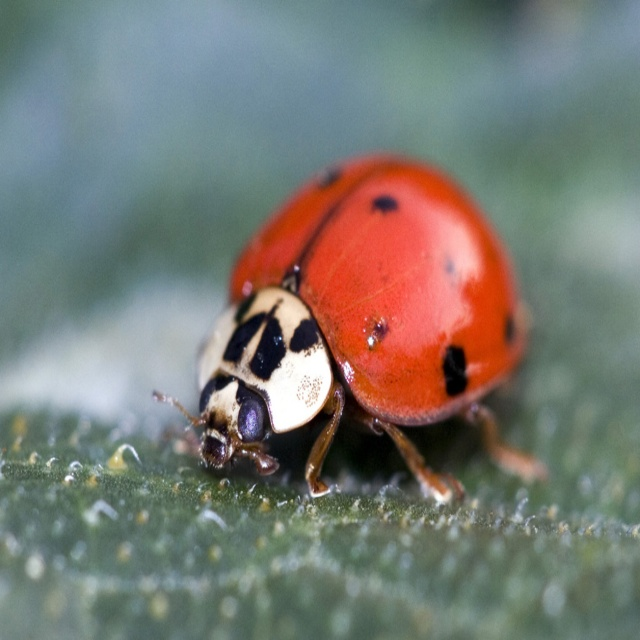Ladybug: (155, 158, 540, 501)
